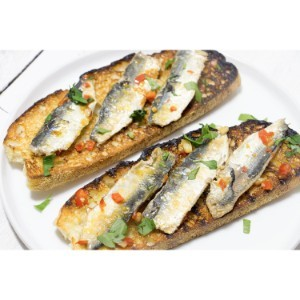sardine_brain food: (59, 64, 271, 245)
